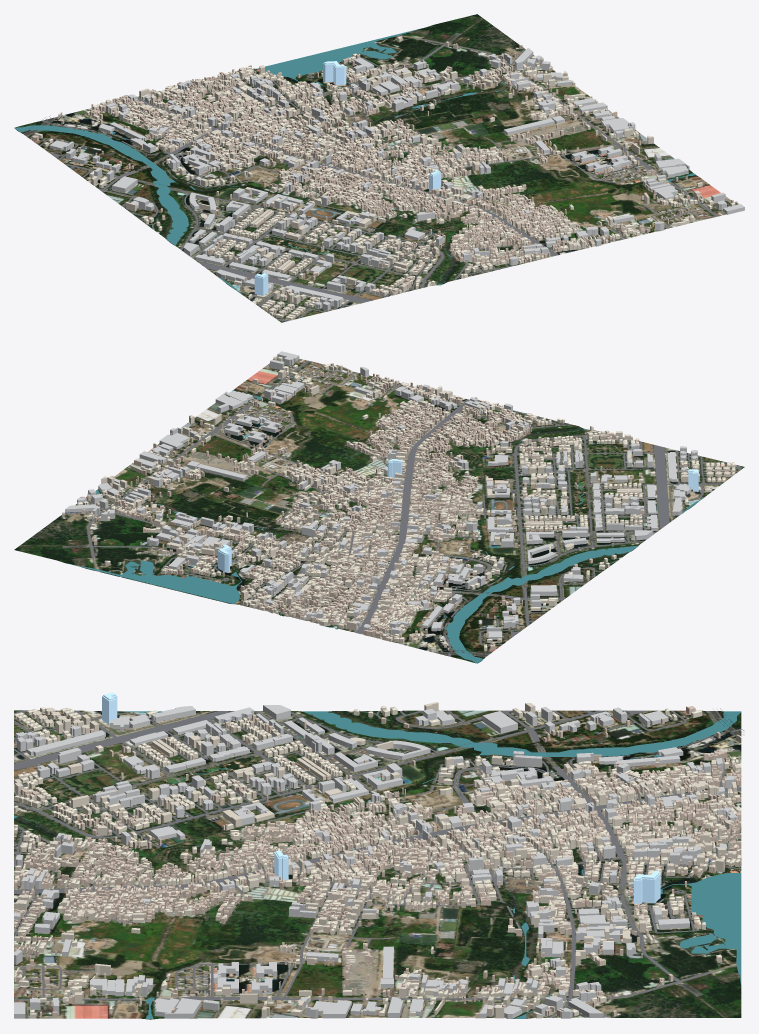
3 renders of one model, top to bottom at view 1: azimuth 30°, elevation 25°; view 2: azimuth 150°, elevation 25°; view 3: azimuth 270°, elevation 25°, orthographic. The views are drawn at different scales.
Parts seen in each view (by area): view 1: TERRAIN, BLDG_TUBE_HOUSE, BLDG_APARTMENT_CONCRETE, BLDG_VILLA_COLONIAL, BLDG_SHOPHOUSE, ROAD_METRO, WATER, BLDG_MODERN_TOWER; view 2: TERRAIN, BLDG_TUBE_HOUSE, BLDG_APARTMENT_CONCRETE, BLDG_VILLA_COLONIAL, ROAD_METRO, BLDG_SHOPHOUSE, WATER, BLDG_MODERN_TOWER; view 3: TERRAIN, BLDG_TUBE_HOUSE, BLDG_APARTMENT_CONCRETE, BLDG_VILLA_COLONIAL, ROAD_METRO, BLDG_SHOPHOUSE, WATER, BLDG_MODERN_TOWER.
Part boxes in pixels (<box>): TERRAIN: <box>15,14,735,322</box>; BLDG_TUBE_HOUSE: <box>32,36,733,308</box>; BLDG_APARTMENT_CONCRETE: <box>49,48,744,310</box>; BLDG_VILLA_COLONIAL: <box>34,36,738,320</box>; BLDG_SHOPHOUSE: <box>91,64,700,315</box>; ROAD_METRO: <box>21,38,718,321</box>; WATER: <box>14,27,696,293</box>; BLDG_MODERN_TOWER: <box>254,61,441,295</box>; TERRAIN: <box>14,357,744,663</box>; BLDG_TUBE_HOUSE: <box>62,358,698,649</box>; BLDG_APARTMENT_CONCRETE: <box>65,351,697,639</box>; BLDG_VILLA_COLONIAL: <box>77,356,735,652</box>; ROAD_METRO: <box>64,360,740,656</box>; BLDG_SHOPHOUSE: <box>101,369,730,640</box>; WATER: <box>65,390,703,663</box>; BLDG_MODERN_TOWER: <box>218,458,698,572</box>; TERRAIN: <box>14,710,741,1019</box>; BLDG_TUBE_HOUSE: <box>14,706,741,1018</box>; BLDG_APARTMENT_CONCRETE: <box>14,705,737,1018</box>; BLDG_VILLA_COLONIAL: <box>14,706,741,1018</box>; ROAD_METRO: <box>14,708,743,1017</box>; BLDG_SHOPHOUSE: <box>14,702,741,1018</box>; WATER: <box>14,711,741,1018</box>; BLDG_MODERN_TOWER: <box>102,692,660,903</box>.
Bounding box in the file's own units: 2003 × 82.09 × 2010.
8 materials, 1 textured.
